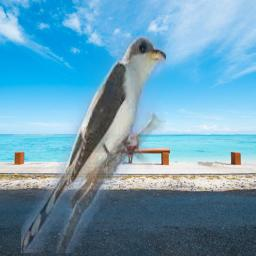Cuckoo: (21, 36, 166, 253)
